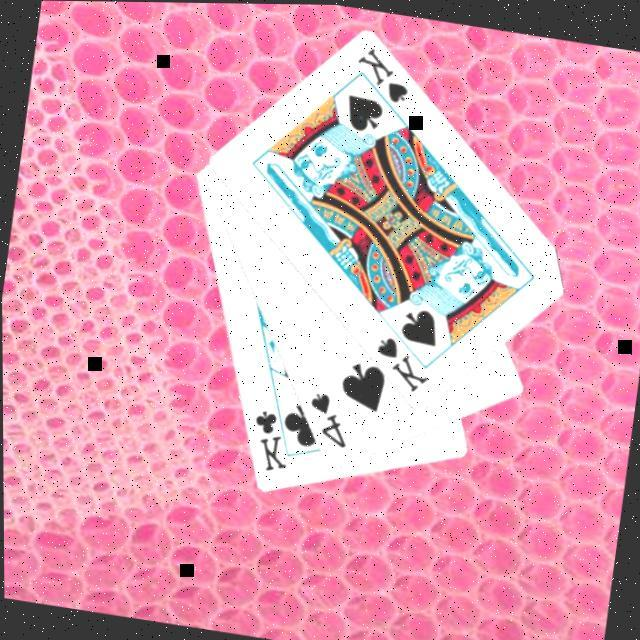4S: (301, 388, 357, 453)
KC: (245, 396, 301, 479)
KS: (348, 43, 419, 122), (369, 332, 436, 399)
